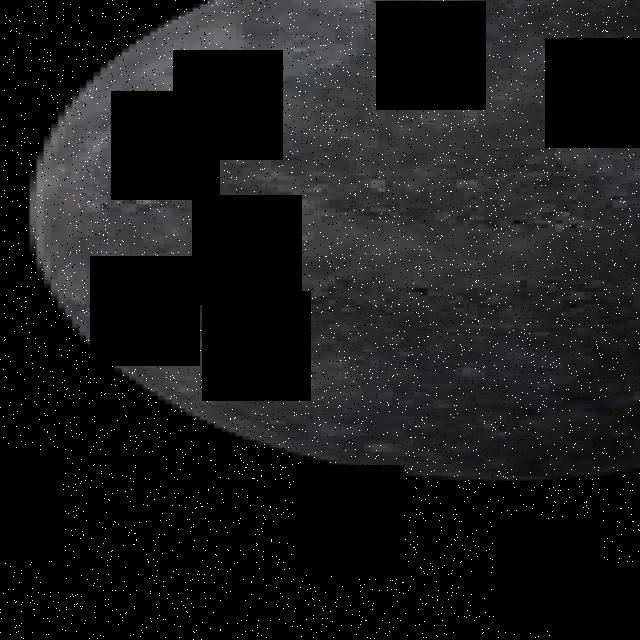Mercury: (21, 0, 640, 480)
